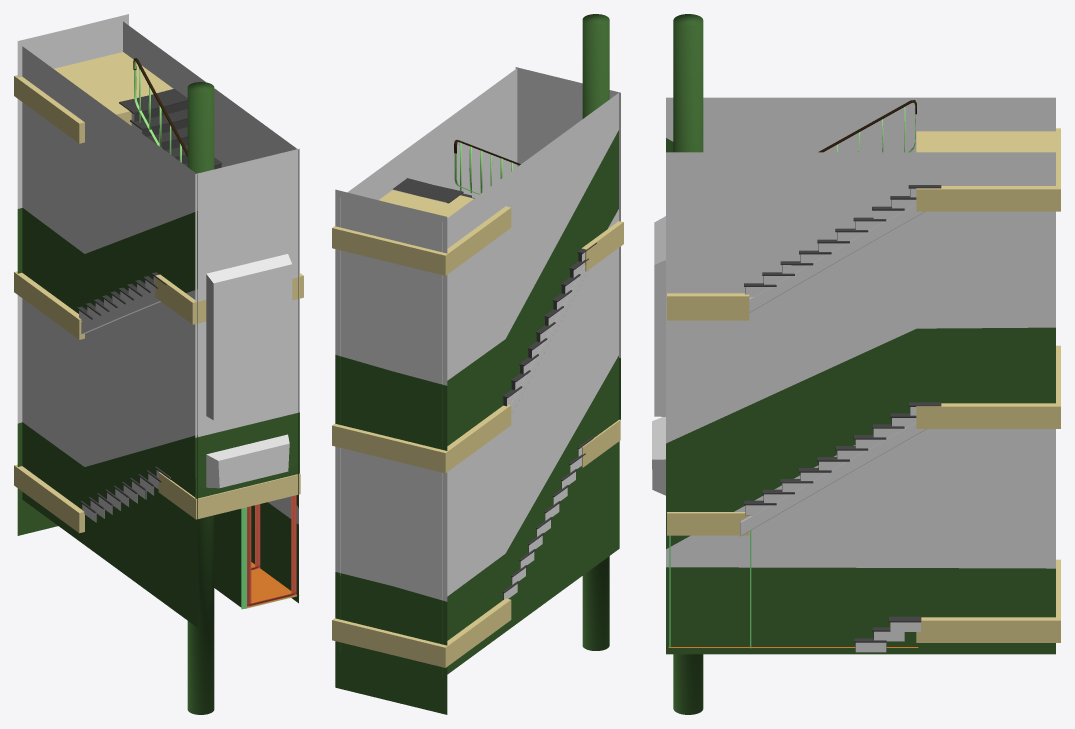
The model's file is paradnaya.fbx.
3 renders of one model, left to right at view 1: azimuth 30°, elevation 25°; view 2: azimuth 150°, elevation 25°; view 3: azimuth 270°, elevation 25°, orthographic. The views are drawn at different scales.
Parts seen in each view (by area): view 1: Plane.001; view 2: Plane.001; view 3: Plane.001.
Boxes of the visible parts, x1,y1,x2,y2 form: Plane.001: (14,14,303,714); Plane.001: (332,14,623,714); Plane.001: (652,14,1060,714).
Bounding box in the file's own units: 53.56 × 278 × 150.
